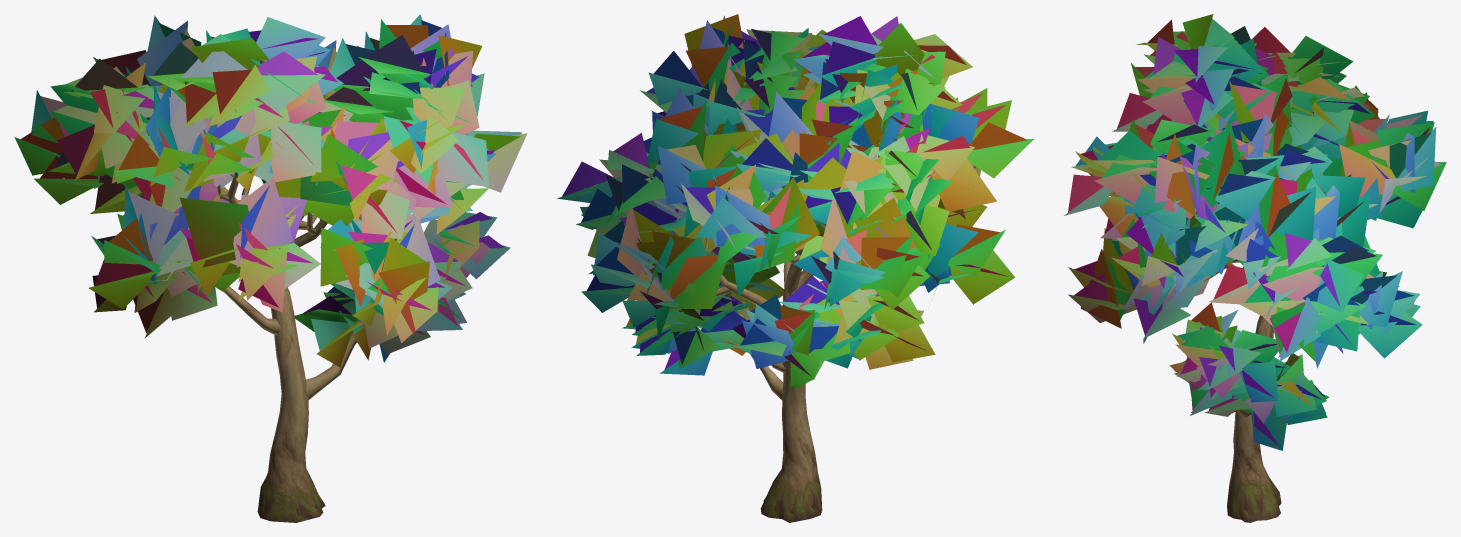
Rendered from Homeworld_Exterior_Common_Plant_Tree_05_Lod0.fbx.
The picture shows the model from 3 angles, left to right: view 1: azimuth 30°, elevation 25°; view 2: azimuth 150°, elevation 25°; view 3: azimuth 270°, elevation 25°; orthographic projection. The views are drawn at different scales.
Parts seen in each view (by area): view 1: Area_Ly_Tree_Common_Gg_06_Leaf_Lod0, Area_Ly_Tree_Common_Gg_06_Bark_Lod0; view 2: Area_Ly_Tree_Common_Gg_06_Leaf_Lod0, Area_Ly_Tree_Common_Gg_06_Bark_Lod0; view 3: Area_Ly_Tree_Common_Gg_06_Leaf_Lod0, Area_Ly_Tree_Common_Gg_06_Bark_Lod0.
Part boxes in pixels (box(x1,y1,x2,y2)): Area_Ly_Tree_Common_Gg_06_Leaf_Lod0: box(14, 14, 527, 367); Area_Ly_Tree_Common_Gg_06_Bark_Lod0: box(98, 142, 364, 522); Area_Ly_Tree_Common_Gg_06_Leaf_Lod0: box(557, 14, 1033, 388); Area_Ly_Tree_Common_Gg_06_Bark_Lod0: box(651, 160, 908, 522); Area_Ly_Tree_Common_Gg_06_Leaf_Lod0: box(1064, 14, 1446, 450); Area_Ly_Tree_Common_Gg_06_Bark_Lod0: box(1119, 256, 1281, 522).
Size of the model in its own units: 11.49 by 13.33 by 10.23.
